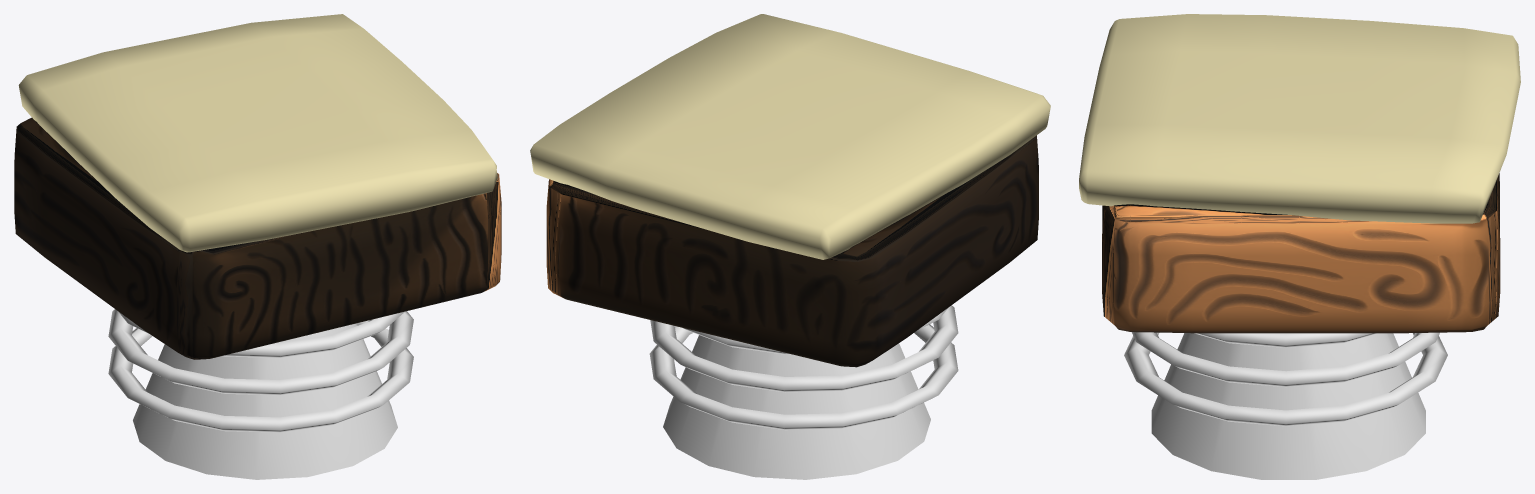
File: SM_Seat_low.fbx
The picture shows the model from 3 angles, left to right: view 1: azimuth 30°, elevation 25°; view 2: azimuth 150°, elevation 25°; view 3: azimuth 270°, elevation 25°; orthographic projection. The views are drawn at different scales.
Visible parts, largest first — view 1: Cushion, Chair, Glass foot, Ring 3, Ring 2, Ring.001; view 2: Cushion, Chair, Glass foot, Ring 3, Ring 2, Ring.001; view 3: Cushion, Chair, Glass foot, Ring 3, Ring 2, Ring.001.
Part boxes in pixels (left/top/right/bottom): Cushion: left=18, top=14, right=497, bottom=252; Chair: left=14, top=117, right=501, bottom=359; Glass foot: left=133, top=323, right=397, bottom=479; Ring 3: left=108, top=320, right=413, bottom=432; Ring 2: left=108, top=309, right=413, bottom=395; Ring.001: left=118, top=311, right=405, bottom=357; Cushion: left=530, top=14, right=1050, bottom=259; Chair: left=546, top=135, right=1038, bottom=367; Glass foot: left=663, top=335, right=930, bottom=479; Ring 3: left=649, top=324, right=958, bottom=430; Ring 2: left=650, top=305, right=958, bottom=392; Ring.001: left=683, top=308, right=947, bottom=354; Cushion: left=1079, top=14, right=1520, bottom=223; Chair: left=1102, top=173, right=1500, bottom=333; Glass foot: left=1151, top=333, right=1425, bottom=479; Ring 3: left=1124, top=332, right=1447, bottom=426; Ring 2: left=1131, top=332, right=1439, bottom=387; Ring.001: left=1194, top=333, right=1377, bottom=347.
Bounding box in the file's own units: 51.74 × 44.48 × 54.42.
